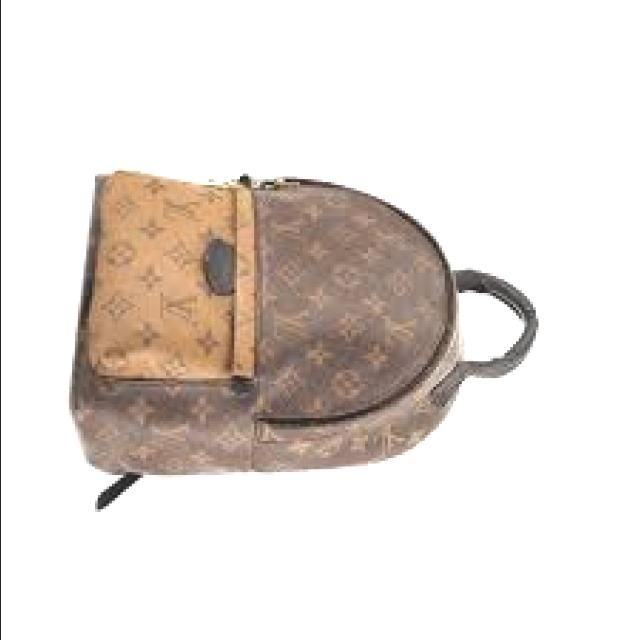backpack: (72, 169, 542, 511)
